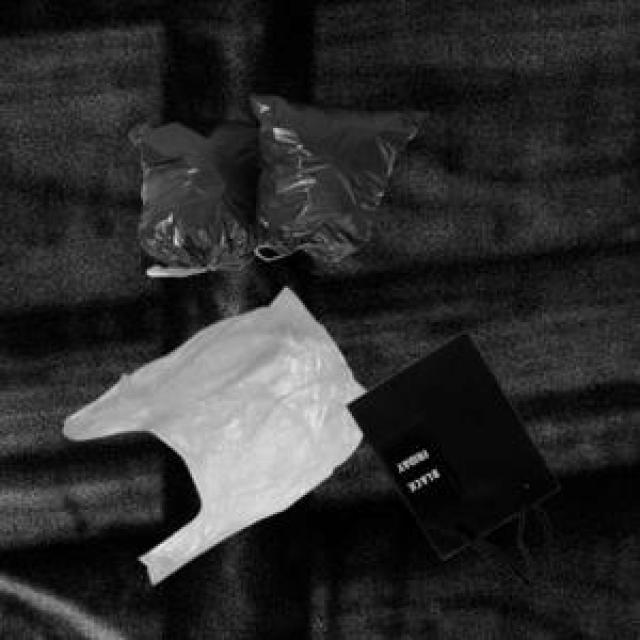miscellaneous trash: (126, 90, 422, 273)
paper: (344, 329, 555, 585)
